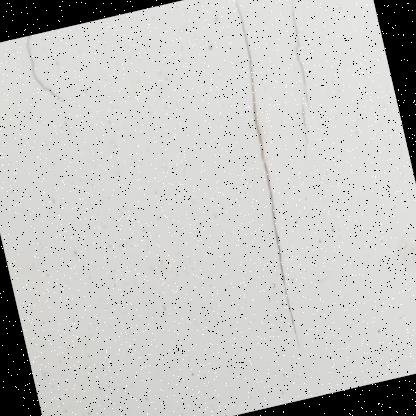Crack: (205, 0, 403, 367), (0, 28, 81, 129)
